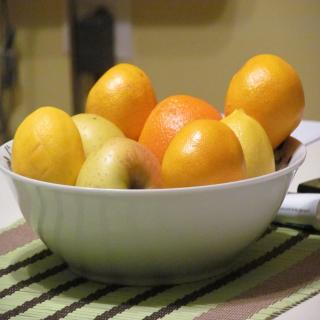Lemon: (218, 108, 274, 178)
Orange: (222, 53, 304, 145), (6, 107, 84, 187), (138, 94, 223, 164), (84, 63, 160, 138)
